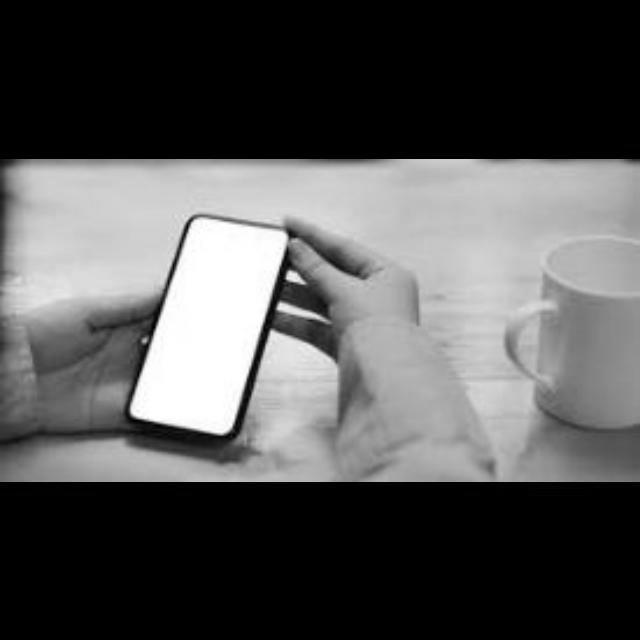fake: (118, 210, 290, 444)
